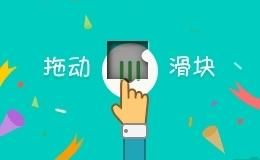target: (87, 22, 127, 60)
